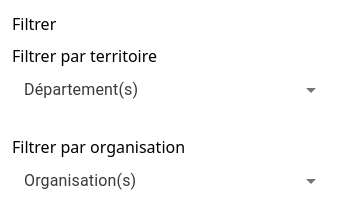
Scenario: TeamsFilters › shows 'aucun département trouvé' when no areas available
The image size is (350, 207).
Click the dropdown with placeholder "Département(s)" at (156, 90), box left=20, top=68, right=293, bottom=111
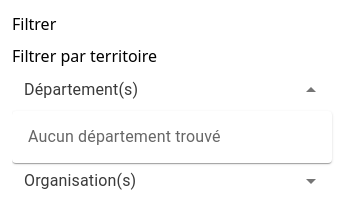
Expected: the text "Aucun département trouvé" is shown, left=28, top=127, right=221, bottom=146
